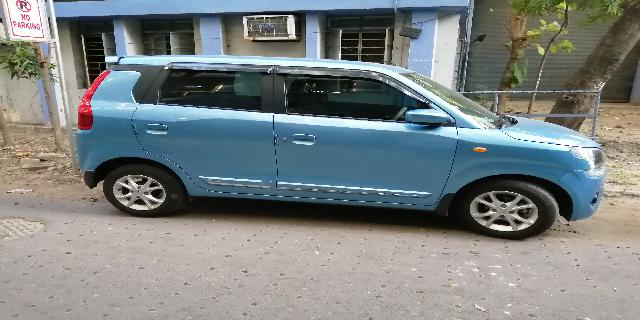Car: (71, 51, 608, 239)
